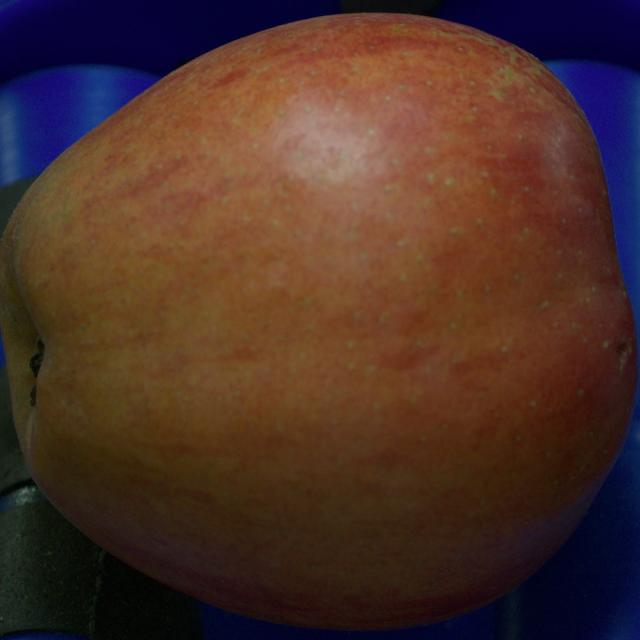apple: (0, 14, 638, 630)
pest: (616, 342, 632, 369)
